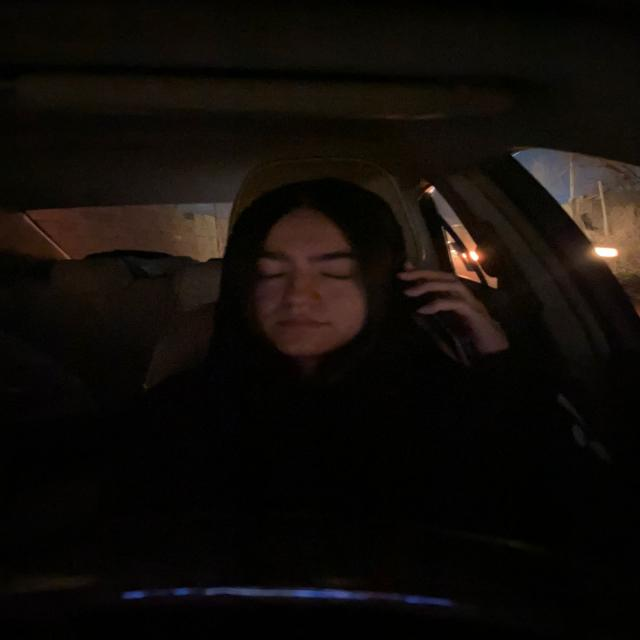drowsy: (224, 191, 388, 356)
